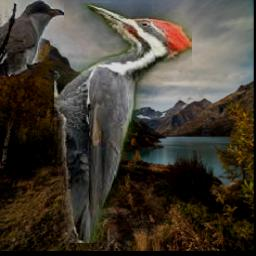Cuckoo: (0, 0, 65, 77)
Woodpecker: (55, 3, 193, 243)
